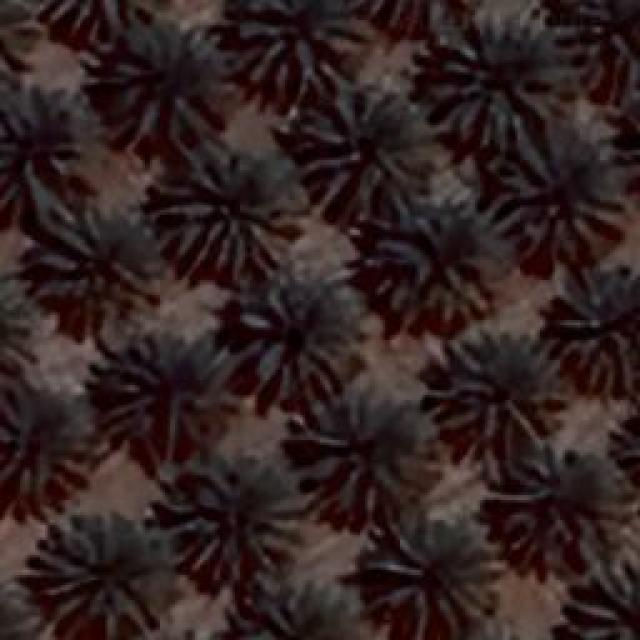PalmTree: (74, 83, 302, 608), (290, 77, 442, 215), (152, 140, 300, 280), (290, 380, 435, 522), (420, 12, 570, 146), (368, 185, 510, 325), (152, 455, 300, 583), (22, 510, 176, 632), (125, 44, 603, 83), (90, 332, 235, 450), (425, 327, 565, 445), (105, 18, 230, 148), (370, 515, 500, 635), (490, 135, 620, 255), (235, 278, 348, 400), (32, 205, 158, 313), (230, 0, 360, 98), (550, 258, 638, 398), (0, 90, 88, 230), (490, 442, 595, 556), (0, 390, 98, 495), (564, 560, 638, 638), (32, 0, 167, 34), (0, 268, 36, 382), (352, 0, 482, 27), (0, 0, 37, 81), (611, 394, 640, 496), (624, 75, 640, 204), (0, 578, 33, 640), (629, 80, 640, 200)
